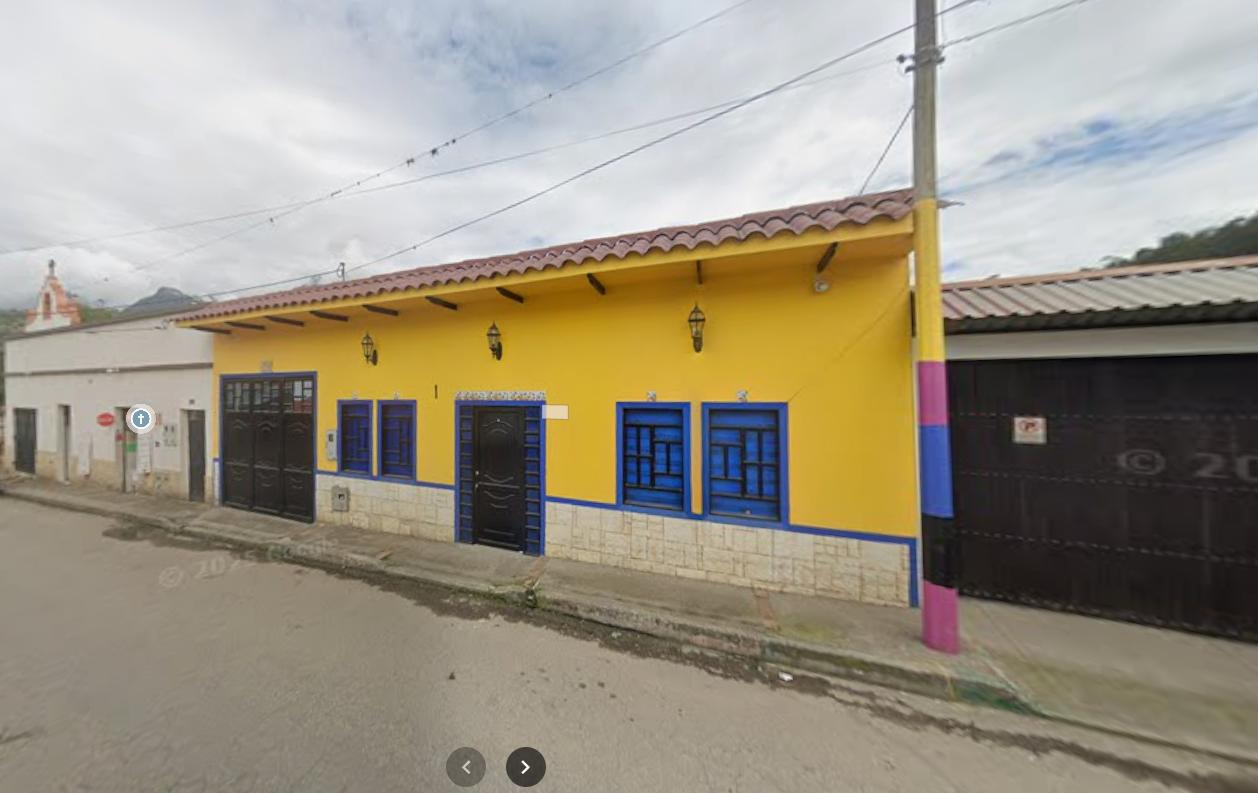casa: (177, 190, 926, 607), (943, 255, 1257, 640), (0, 265, 218, 502)
poste: (901, 0, 959, 653)
